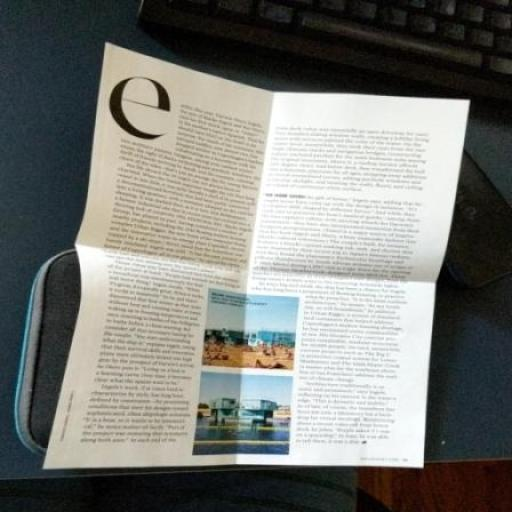paper: (12, 14, 512, 480)
